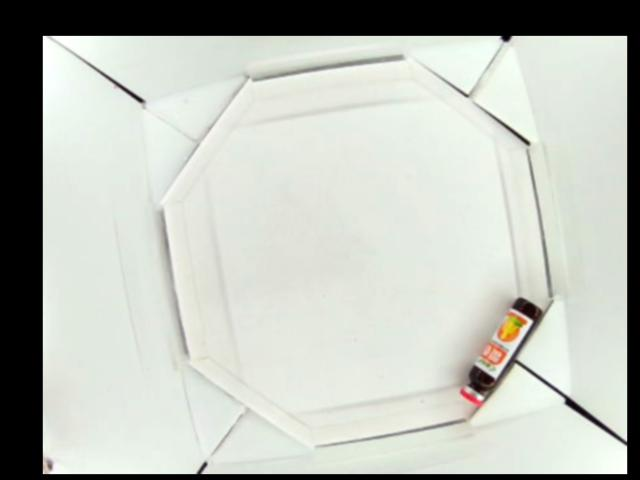Medicine: (460, 297, 545, 403)
